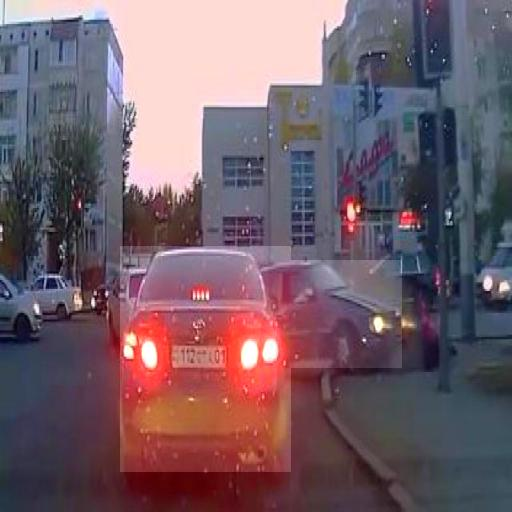小汽车: (120, 246, 291, 472), (268, 260, 402, 368)
